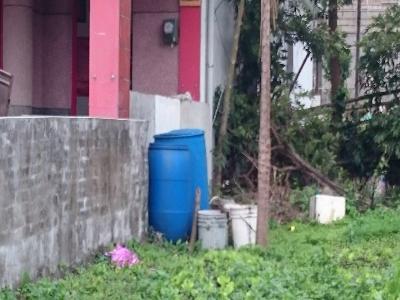bucket: (146, 142, 197, 244), (197, 208, 230, 252), (228, 204, 258, 251)
styrofoam: (308, 195, 346, 227)
